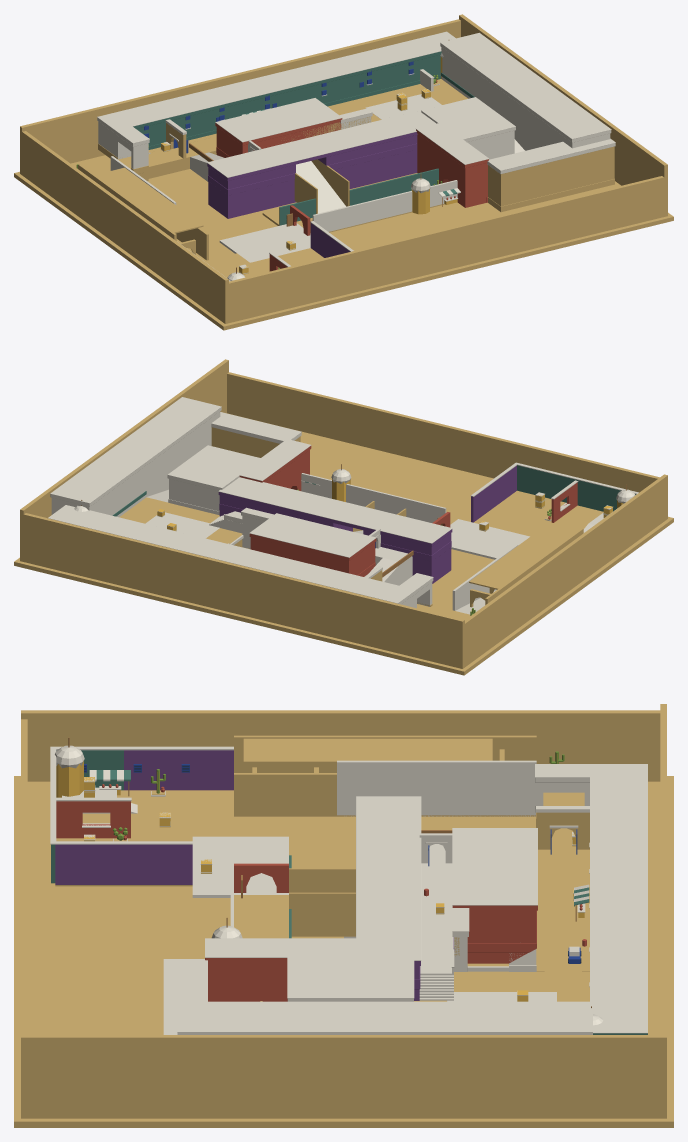
Rendered from architecture.glb.
3 renders of one model, top to bottom at view 1: azimuth 30°, elevation 25°; view 2: azimuth 150°, elevation 25°; view 3: azimuth 270°, elevation 25°, orthographic. The views are drawn at different scales.
Parts seen in each view (by area): view 1: SouthBoundary, SafetyFoundation, WestBoundary, NorthBoundary, B_north_capstone, B_southwest, B_east_capstone, B_north, B_southwest_capstone, B_ctsouth, B_east, EastBoundary (+34 smaller); view 2: NorthBoundary, SouthBoundary, SafetyFoundation, WestBoundary, B_north_capstone, B_east_capstone, B_southwest_capstone, B_east, EastBoundary, floor_b_site, B_west_capstone, mid_wall_s (+26 smaller); view 3: EastBoundary, SafetyFoundation, WestBoundary, B_north_capstone, B_east_capstone, B_southwest_capstone, tunnel_wall_e, B_west_capstone, b_wall_e, B_south_capstone, floor_long, floor_b_to_mid (+35 smaller).
Part boxes in pixels (x1,y1,x2,y2): SouthBoundary: (223,176,667,323); SafetyFoundation: (14,155,673,330); WestBoundary: (20,131,228,323); NorthBoundary: (20,19,460,174); B_north_capstone: (113,31,455,126); B_southwest: (208,135,417,218); B_east_capstone: (440,32,611,139); B_north: (136,55,440,146); B_southwest_capstone: (207,110,435,177); B_ctsouth: (488,146,614,206); B_east: (441,47,610,150); EastBoundary: (459,14,667,215); NorthBoundary: (20,513,464,668); SouthBoundary: (227,372,667,506); SafetyFoundation: (14,413,673,675); WestBoundary: (459,474,667,668); B_north_capstone: (48,505,400,599); B_east_capstone: (50,397,221,503); B_southwest_capstone: (218,477,452,543); B_east: (51,411,220,515); EastBoundary: (20,359,228,561); floor_b_site: (474,490,603,536); B_west_capstone: (249,513,376,557); mid_wall_s: (301,473,446,522); EastBoundary: (21,1035,666,1118); SafetyFoundation: (14,776,673,1127); WestBoundary: (21,710,660,781); B_north_capstone: (590,775,647,1033); B_east_capstone: (177,1001,592,1032); B_southwest_capstone: (356,796,421,960); tunnel_wall_e: (337,760,536,815); B_west_capstone: (452,828,537,905); b_wall_e: (55,844,192,884); B_south_capstone: (287,956,414,998); floor_long: (544,828,581,971); floor_b_to_mid: (192,836,288,897).
Size of the model in its own units: 119 by 14.35 by 96.
